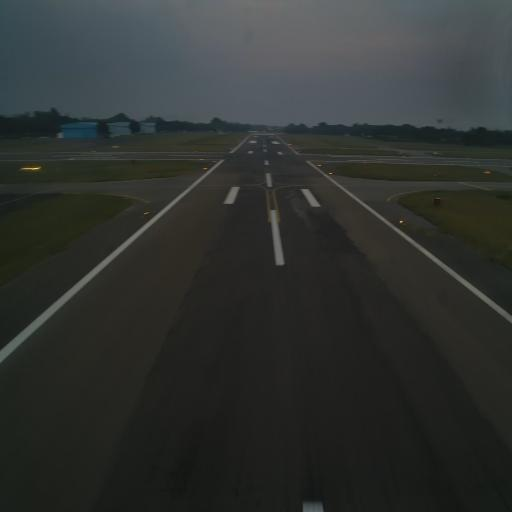on: (142, 209, 149, 218), (398, 216, 404, 226)
